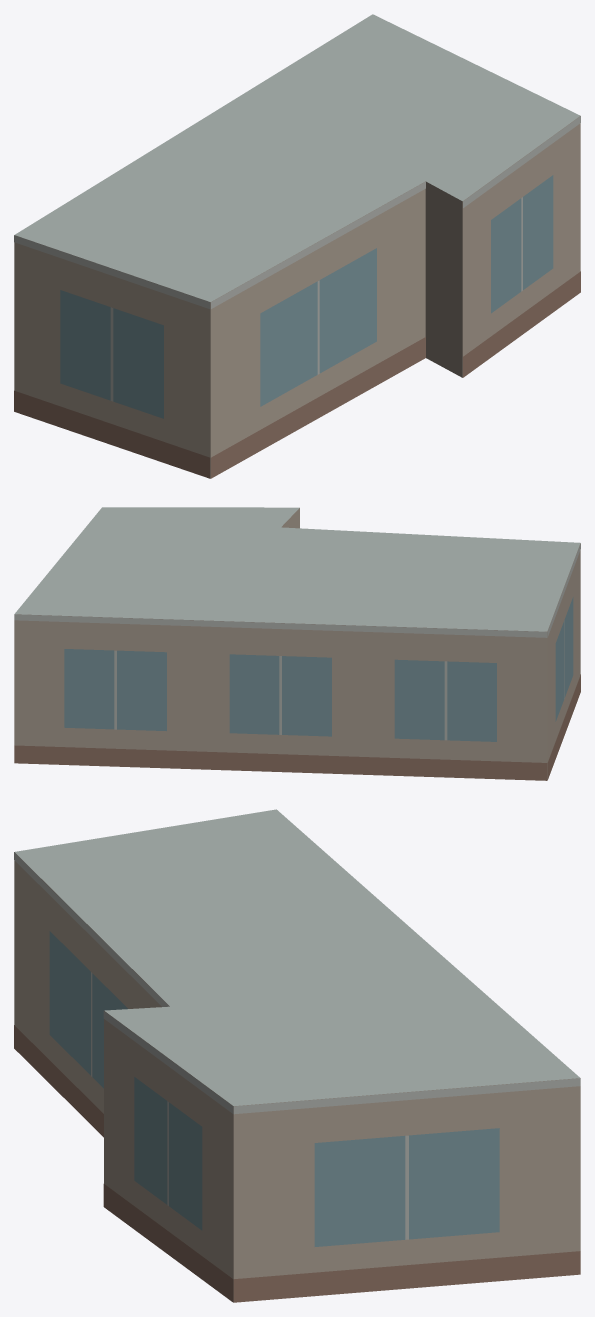
Rendered from survey-upis-32627445.glb.
3 renders of one model, top to bottom at view 1: azimuth 30°, elevation 25°; view 2: azimuth 150°, elevation 25°; view 3: azimuth 270°, elevation 25°, orthographic. The views are drawn at different scales.
Parts seen in each view (by area): view 1: survey-upis-32627445.tmp; view 2: survey-upis-32627445.tmp; view 3: survey-upis-32627445.tmp.
Part boxes in pixels (x1=…): survey-upis-32627445.tmp: x1=14, y1=14, x2=580, y2=478; survey-upis-32627445.tmp: x1=14, y1=507, x2=580, y2=780; survey-upis-32627445.tmp: x1=14, y1=809, x2=580, y2=1302.
Bounding box in the file's own units: 9.9 × 3.05 × 7.98.
